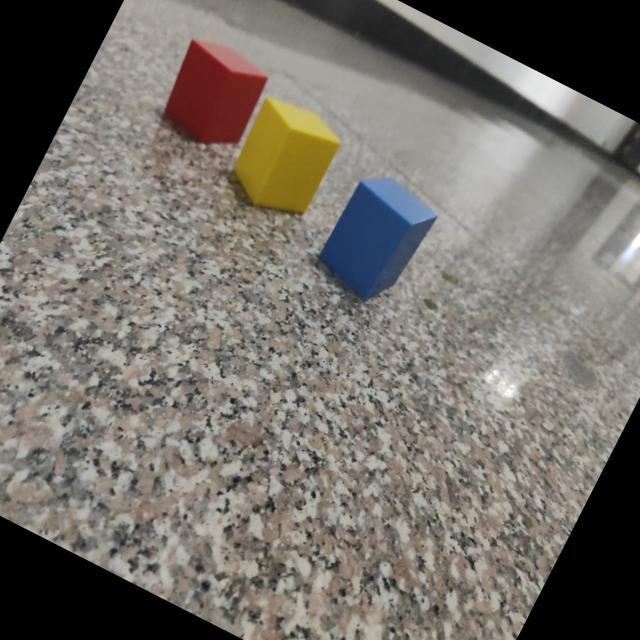blue: (317, 178, 438, 302)
red: (162, 41, 268, 146)
yellow: (231, 99, 340, 216)
